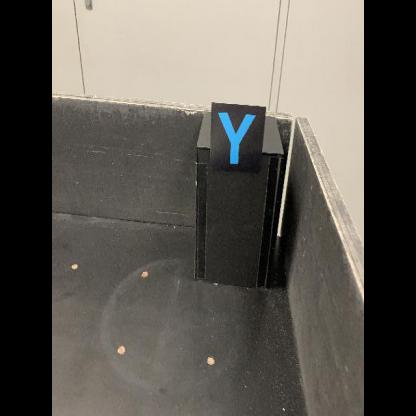y: (210, 100, 268, 175)
